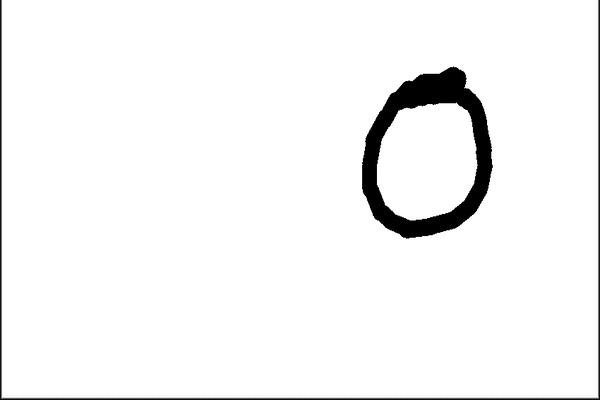O: (349, 58, 510, 248)
